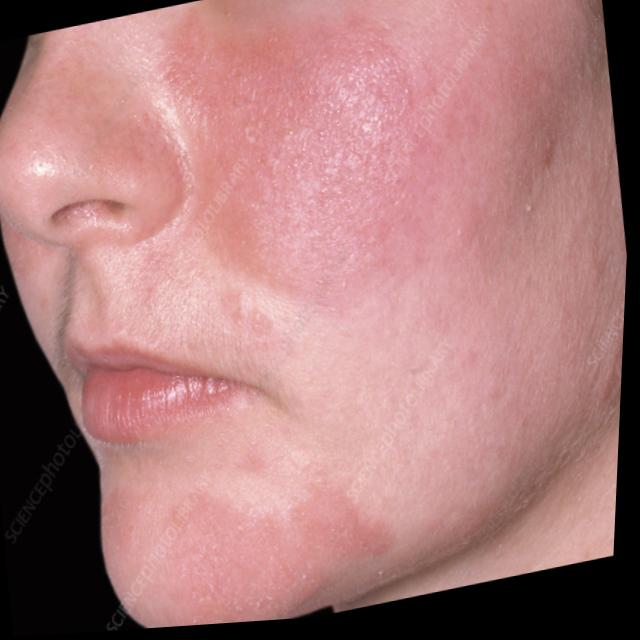skinredness: (144, 0, 460, 352), (147, 444, 416, 631)
